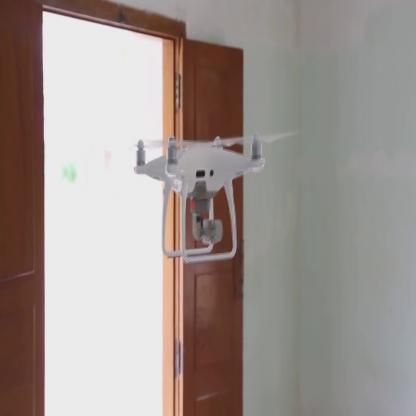drone: (120, 119, 309, 287)
